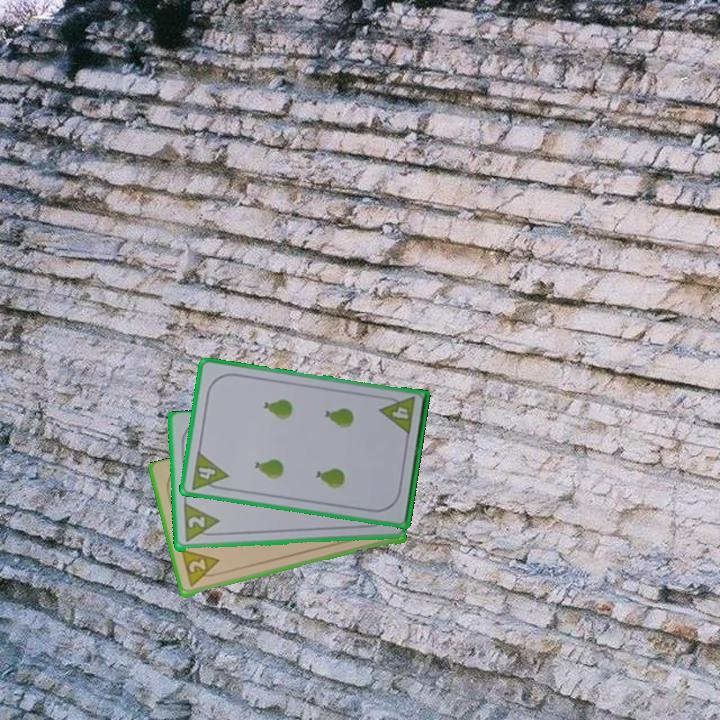2p: (178, 547, 225, 590), (180, 502, 222, 545)
4p: (188, 448, 231, 494), (377, 393, 418, 438)
